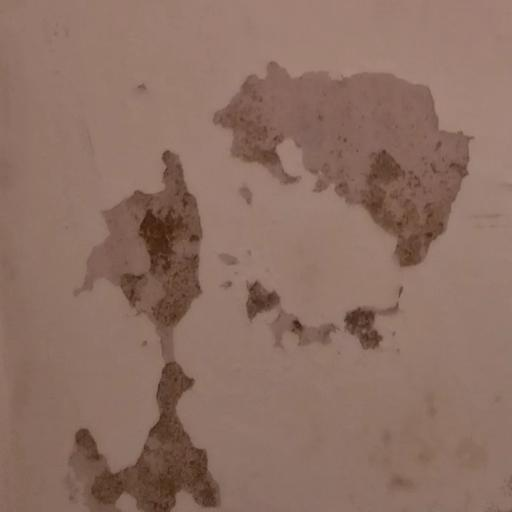peeling: (46, 125, 256, 512), (211, 38, 512, 284), (227, 258, 421, 371)
